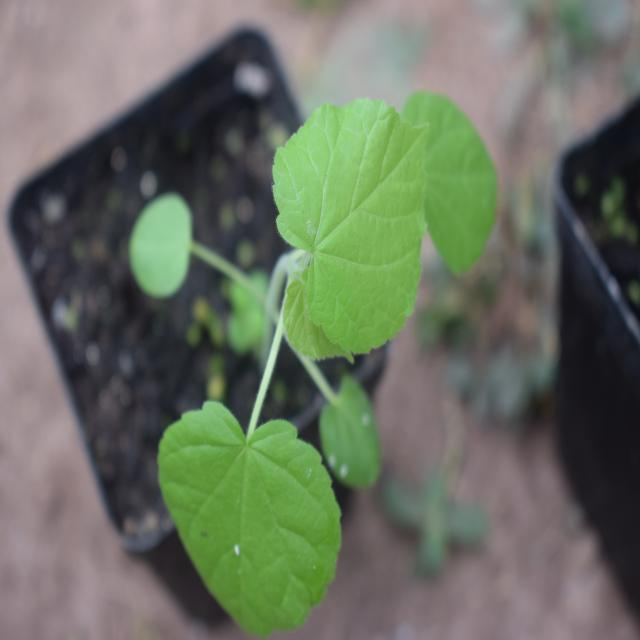abutilon theophrasti: (148, 80, 484, 632)
